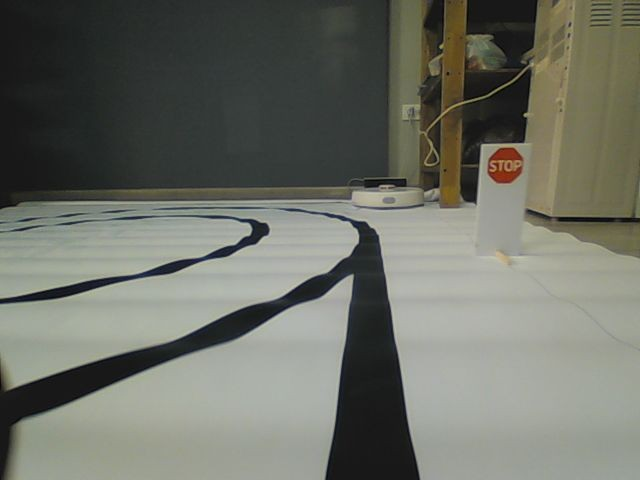Stop: (485, 146, 524, 180)
